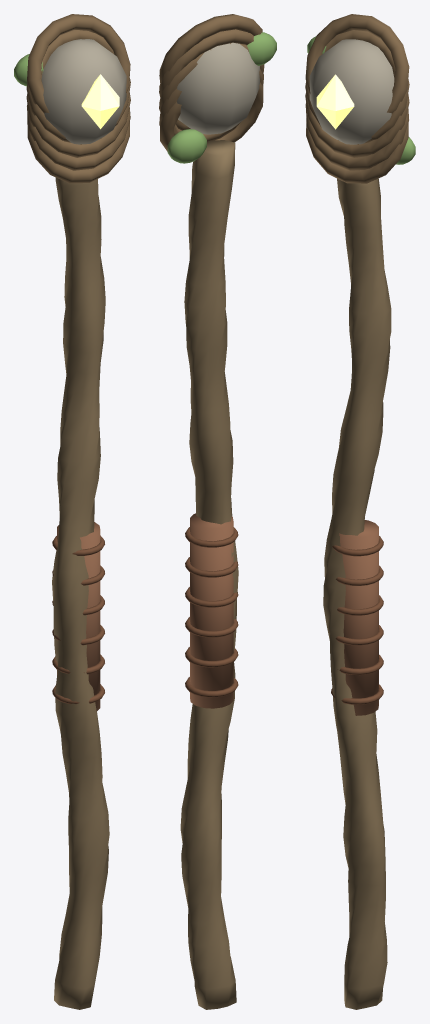
The model's file is cajado-terra-490.glb.
3 renders of one model, left to right at view 1: azimuth 30°, elevation 25°; view 2: azimuth 210°, elevation 25°; view 3: azimuth 330°, elevation 25°, orthographic.
Visible parts, largest first — view 1: cajado-terra; view 2: cajado-terra; view 3: cajado-terra.
Part boxes in pixels (x1=…): cajado-terra: x1=14, y1=14, x2=130, y2=1009; cajado-terra: x1=159, y1=14, x2=276, y2=1009; cajado-terra: x1=305, y1=14, x2=415, y2=1009.
Bounding box in the file's own units: 0.1688 × 1.49 × 0.1474.
